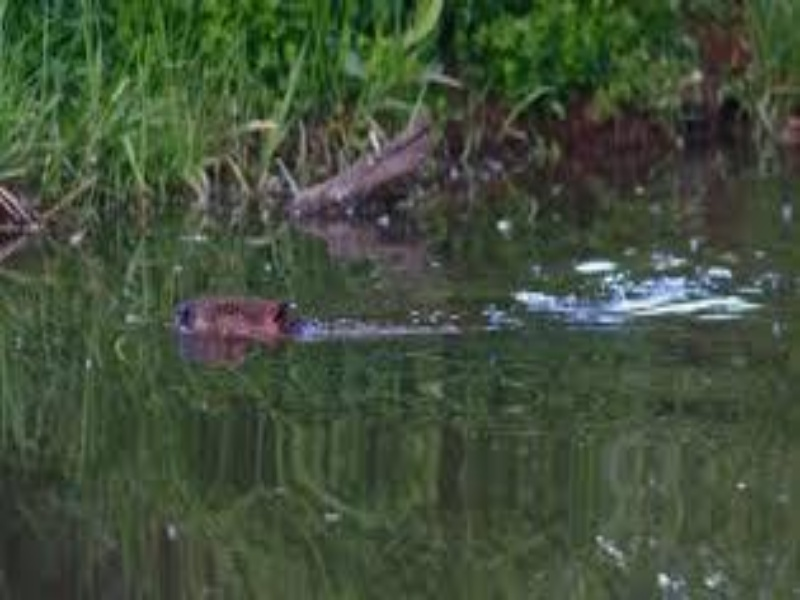minkish: (169, 289, 306, 345)
